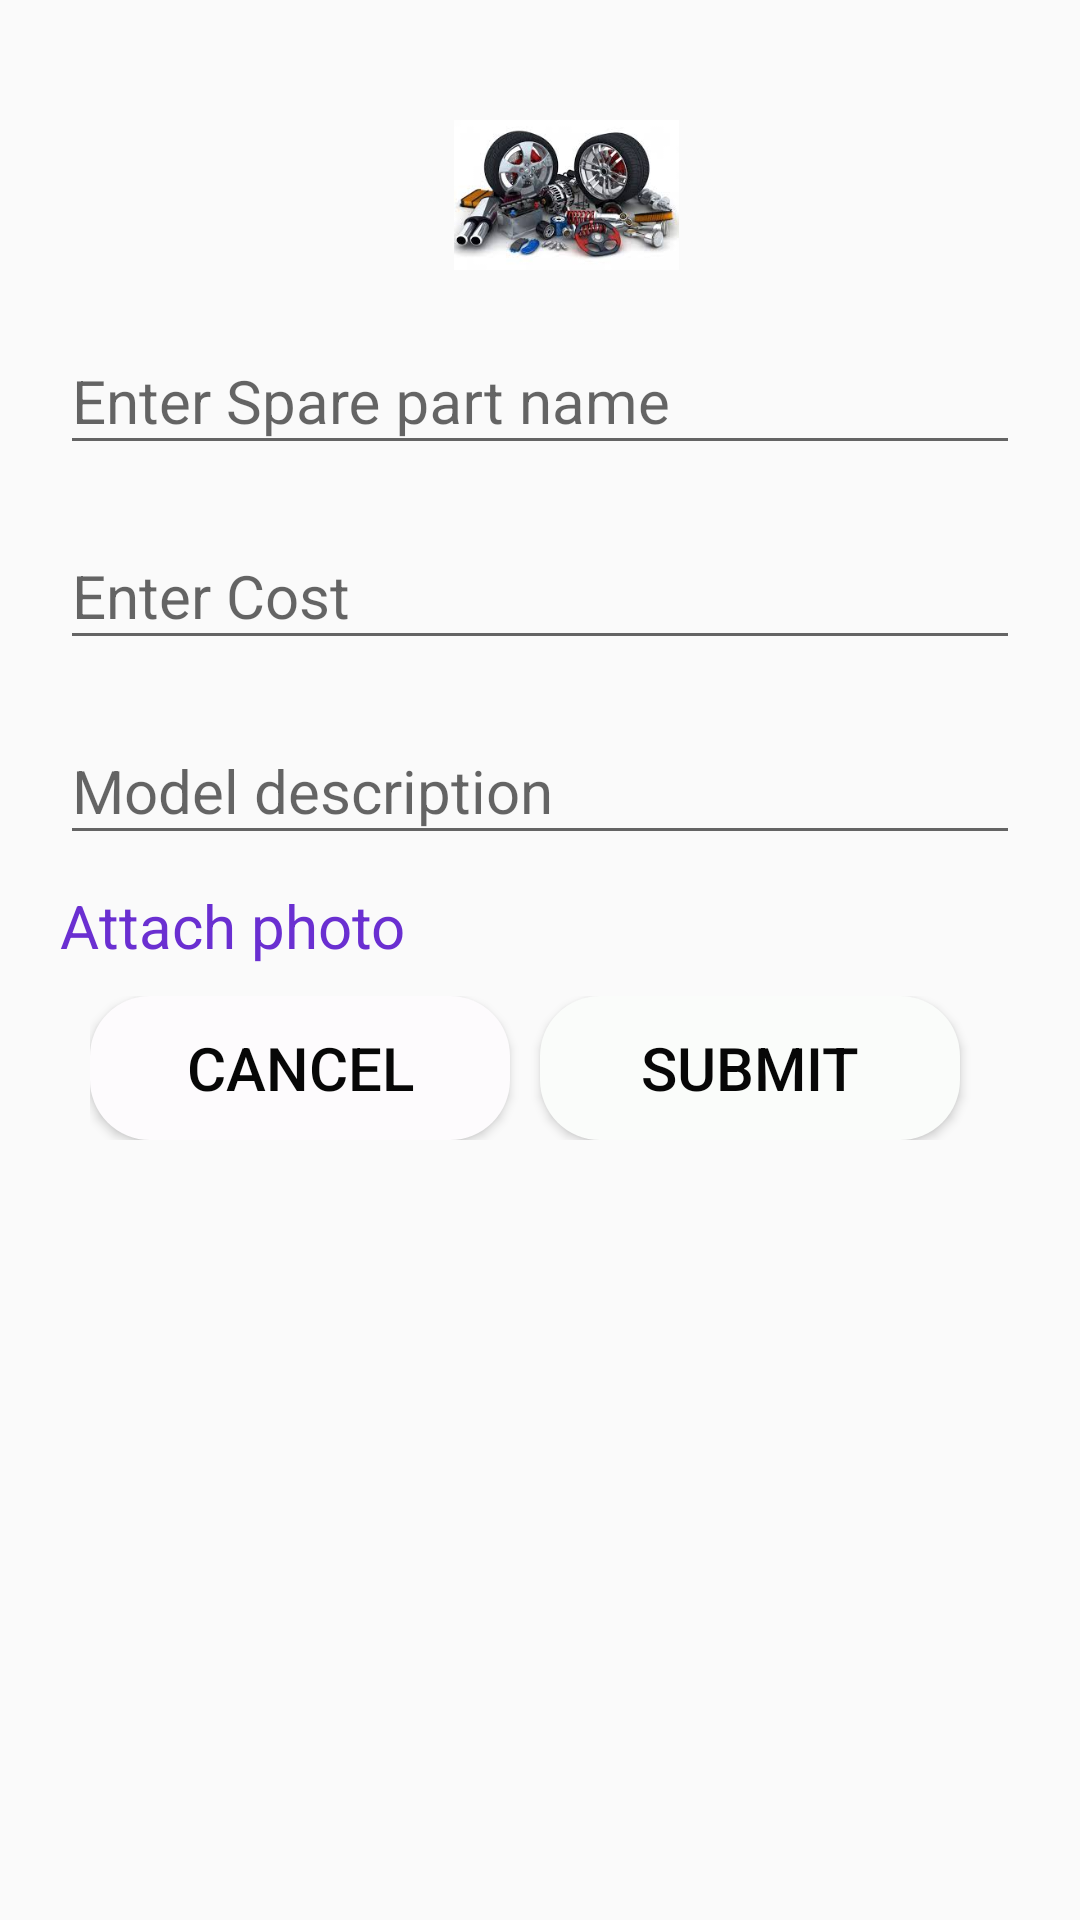

Where icons sit on this 1080px x 1920px app screen, as (x1, y1, x2, y2):
myspares: (454, 130, 679, 258)
